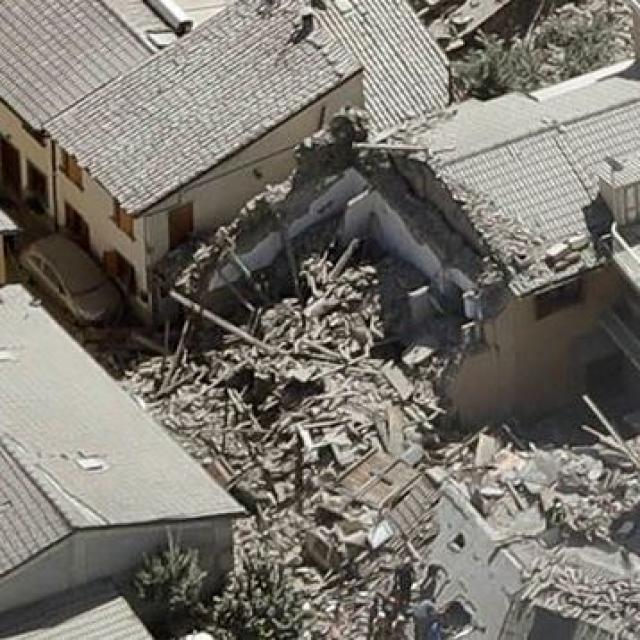collapsed_building: (163, 64, 622, 466)
